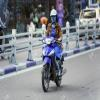motorcycles: (40, 35, 66, 91)
